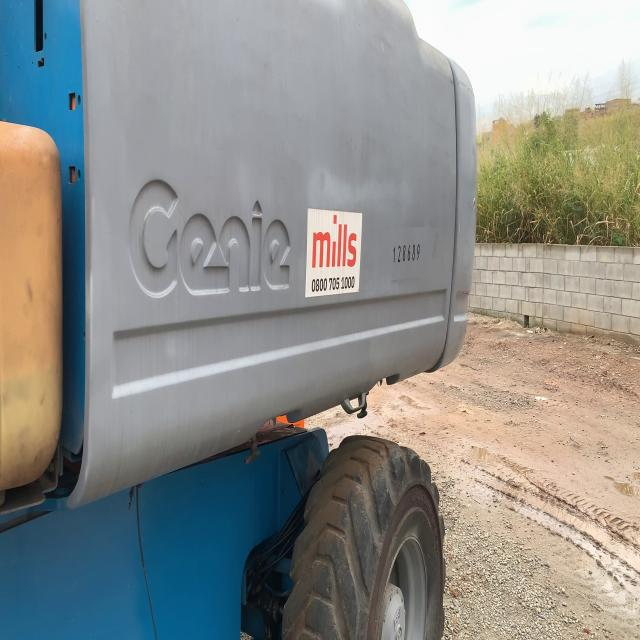Adesivos: (303, 207, 363, 300)
